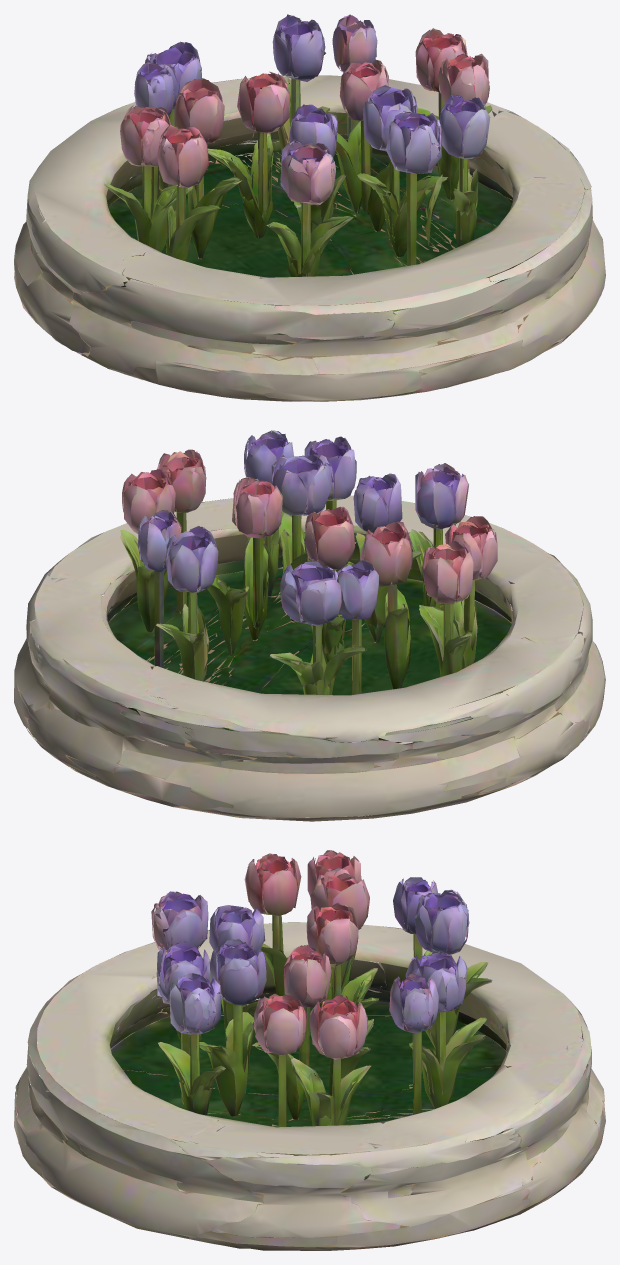
Rendered from tulips.glb.
3 views of the same model, one above another, from view 1: azimuth 30°, elevation 25°; view 2: azimuth 150°, elevation 25°; view 3: azimuth 270°, elevation 25° (orthographic).
Parts seen in each view (by area): view 1: node_0; view 2: node_0; view 3: node_0.
Boxes of the visible parts, x1,y1,x2,y2 form: node_0: [14, 14, 605, 401]; node_0: [14, 430, 605, 821]; node_0: [14, 850, 605, 1250].
Bounding box in the file's own units: 1.6 × 0.6116 × 1.6.
1 material, 1 textured.
